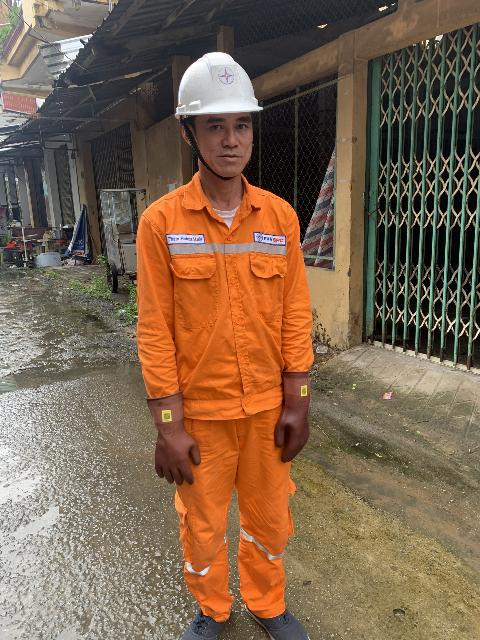gloves: (139, 379, 206, 487), (253, 357, 318, 464)
helmet: (174, 42, 288, 134)
shoes: (243, 587, 323, 640), (166, 592, 224, 640)
